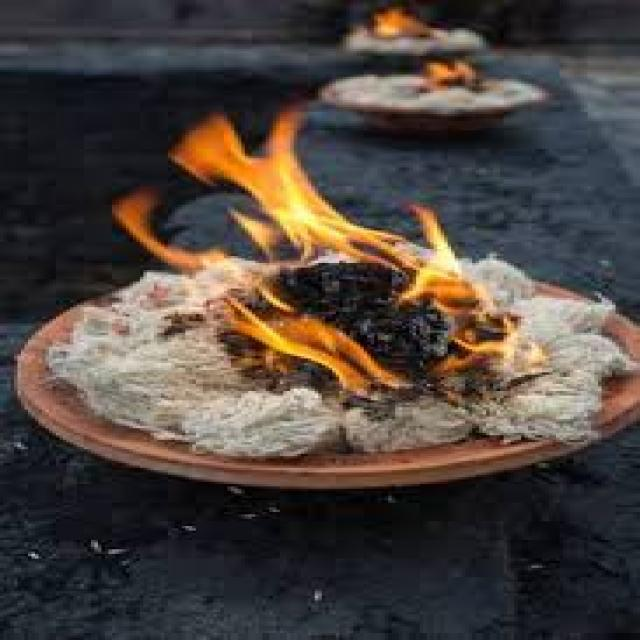fire: (170, 102, 395, 262), (402, 201, 543, 378), (222, 277, 394, 397), (113, 185, 221, 274), (421, 58, 479, 90), (374, 9, 434, 37)
